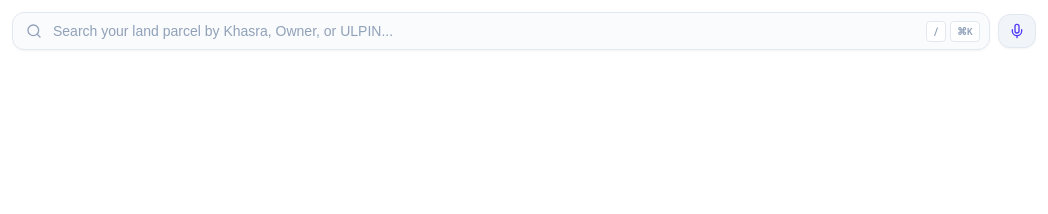
Scenario: End-to-End Comprehensive QA Test Suite (14 Core Scenarios) › 1. Search Bar & Anti-XSS Sanitization › performs cross-state search fallback when searching for Chandigarh parcel in Tamil Nadu view
This screenshot has width=1048, height=214.
# Search for Chandigarh owner Gurpreet
Type "Gurpreet" into the field with placeholder "Search your land parcel by Khasra, Owner, or ULPIN..." at {"x": 501, "y": 31}, box [12,12,990,50]
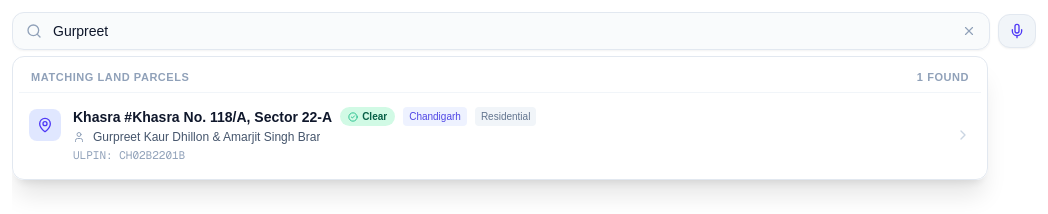
expect the text "Gurpreet Kaur Dhillon & Amarjit Singh Brar" is shown: met, box [93,128,320,144]
expect the text "Chandigarh" is shown: met, box [403,107,467,126]
